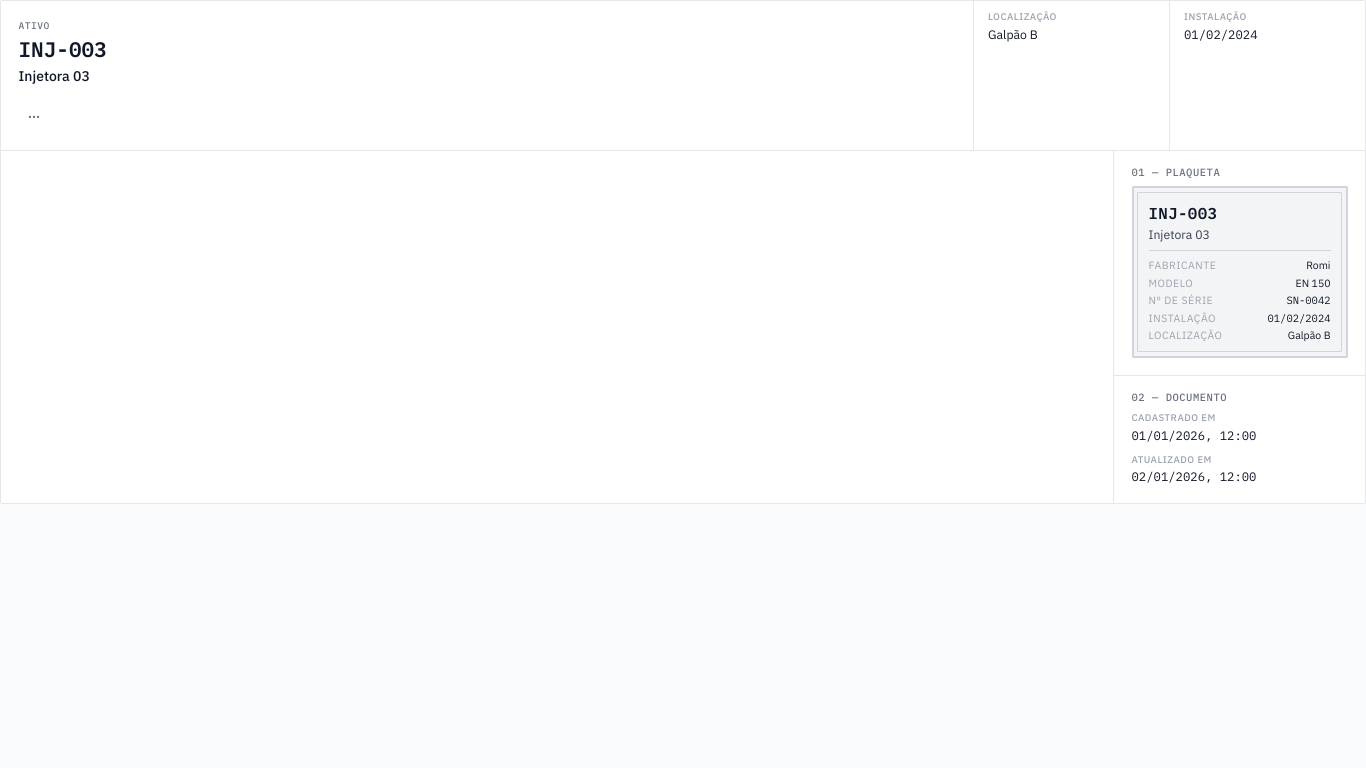
AssetViewPage › deve esconder Editar e desabilitar Remover sem permissão de escrita
Expected: the heading "Injetora 03" is shown, [18,67,90,85]
Click the button named "Mais ações".
click(34, 117)  # box [18,101,48,133]
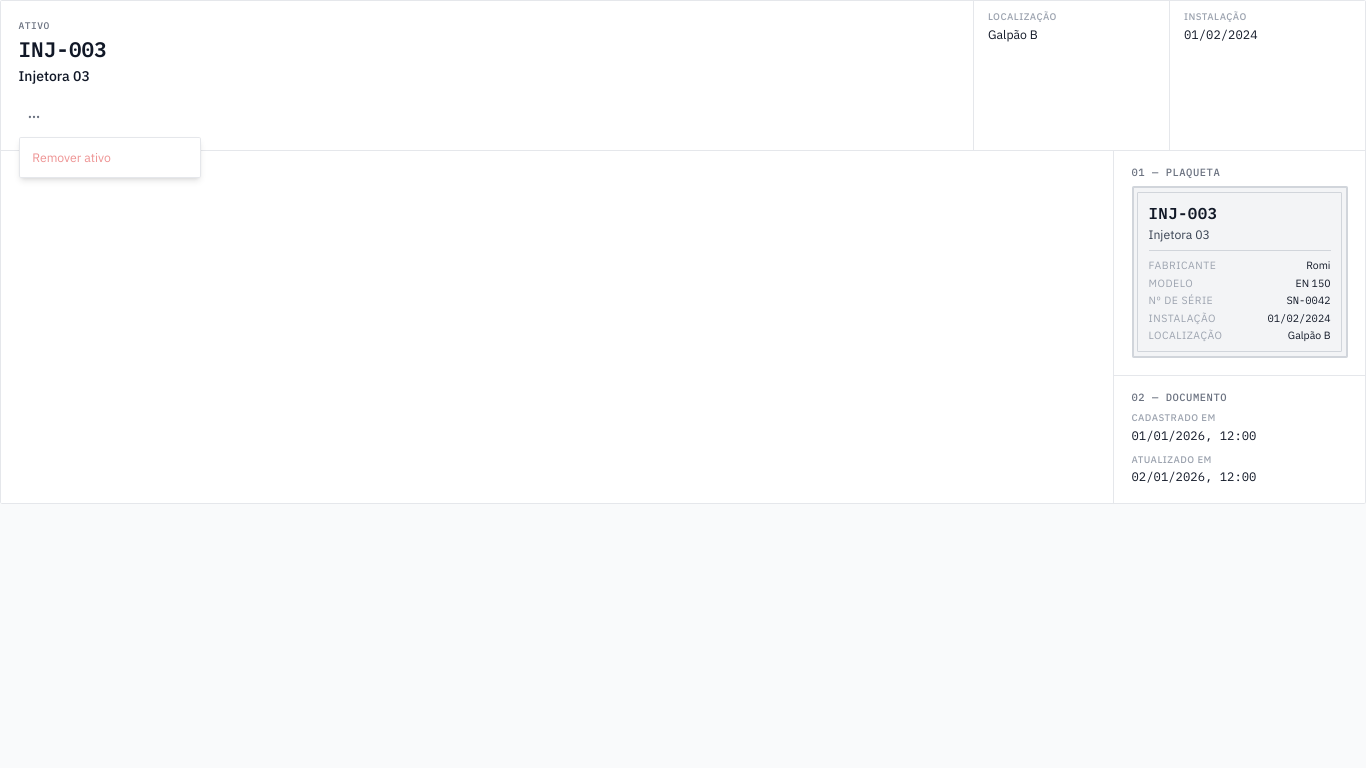
Expected: the button "Remover ativo" is disabled, [24,142,196,173]
